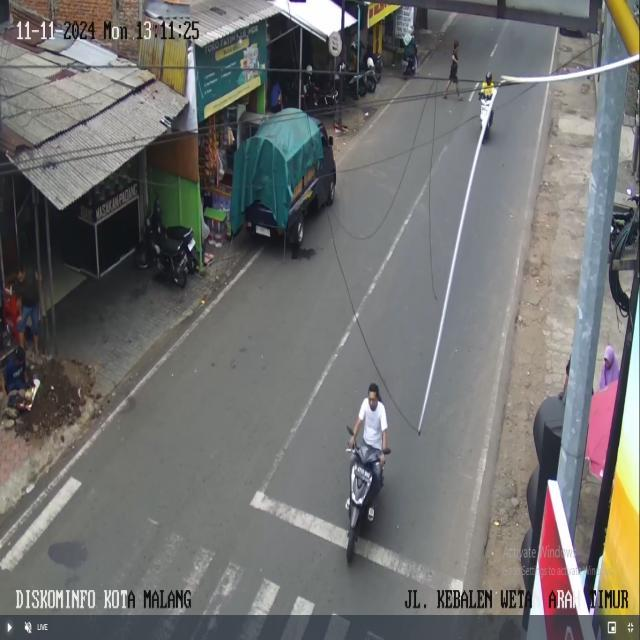Helmet: (366, 56, 375, 69), (485, 72, 491, 82), (306, 65, 312, 73)
Number Plate: (355, 467, 370, 480), (255, 225, 270, 236), (188, 239, 195, 250)
Rearview Mirror: (328, 136, 333, 145)
